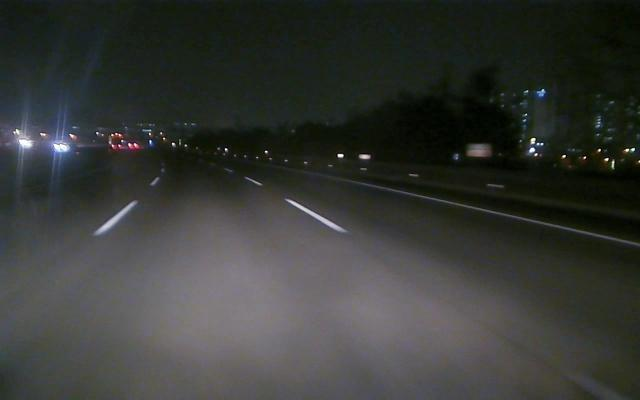lane: (349, 181, 638, 248), (248, 178, 347, 232), (94, 178, 159, 235)
